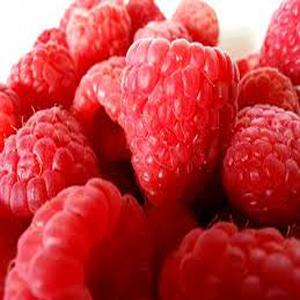raspb: (1, 41, 300, 300)
